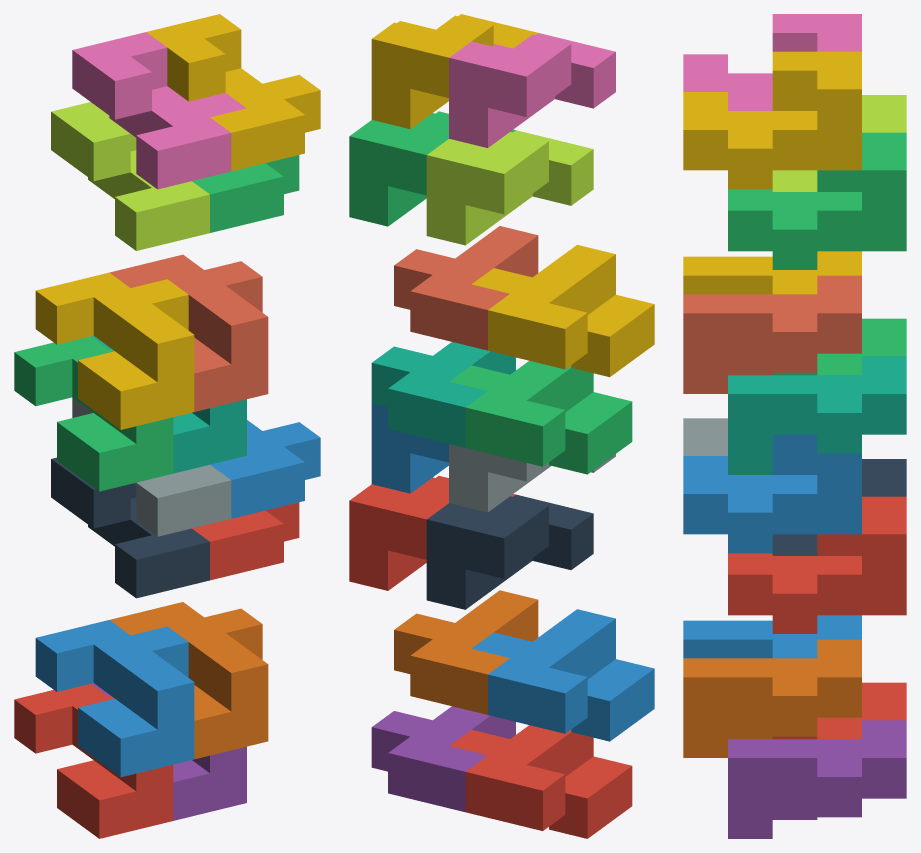
File: tiling.obj
3 renders of one model, left to right at view 1: azimuth 30°, elevation 25°; view 2: azimuth 150°, elevation 25°; view 3: azimuth 270°, elevation 25°, orthographic. The views are drawn at different scales.
Visible parts, largest first — view 1: copy_1_domain_4, copy_1_domain_2, copy_2_domain_4, copy_2_domain_8, copy_1_domain_6, copy_1_domain_8, copy_1_domain_1, copy_1_domain_3, copy_2_domain_3, copy_2_domain_1, copy_2_domain_6, copy_2_domain_2 (+4 smaller); view 2: copy_1_domain_2, copy_1_domain_4, copy_1_domain_3, copy_1_domain_1, copy_2_domain_1, copy_2_domain_3, copy_2_domain_4, copy_1_domain_8, copy_1_domain_6, copy_2_domain_8, copy_1_domain_5, copy_1_domain_7 (+4 smaller); view 3: copy_2_domain_8, copy_2_domain_5, copy_2_domain_7, copy_2_domain_6, copy_1_domain_6, copy_1_domain_8, copy_1_domain_5, copy_1_domain_7, copy_2_domain_4, copy_1_domain_2, copy_1_domain_4, copy_1_domain_1 (+4 smaller).
Boxes of the visible parts, <box> form: copy_1_domain_4: <box>35,272,194,429</box>; copy_1_domain_2: <box>35,620,194,777</box>; copy_2_domain_4: <box>72,32,246,189</box>; copy_2_domain_8: <box>146,14,320,171</box>; copy_1_domain_6: <box>110,602,268,759</box>; copy_1_domain_8: <box>109,254,268,411</box>; copy_1_domain_1: <box>14,684,173,838</box>; copy_1_domain_3: <box>14,336,173,491</box>; copy_2_domain_3: <box>51,102,209,250</box>; copy_2_domain_1: <box>51,457,209,598</box>; copy_2_domain_6: <box>210,420,320,518</box>; copy_2_domain_2: <box>72,397,231,536</box>; copy_1_domain_2: <box>472,609,654,741</box>; copy_1_domain_4: <box>472,244,654,377</box>; copy_1_domain_3: <box>449,361,632,474</box>; copy_1_domain_1: <box>449,725,632,838</box>; copy_2_domain_1: <box>426,494,593,609</box>; copy_2_domain_3: <box>426,130,593,245</box>; copy_2_domain_4: <box>449,33,615,147</box>; copy_1_domain_8: <box>394,226,538,350</box>; copy_1_domain_6: <box>394,590,538,714</box>; copy_2_domain_8: <box>371,14,537,129</box>; copy_1_domain_5: <box>371,706,515,812</box>; copy_1_domain_7: <box>371,342,515,447</box>; copy_2_domain_8: <box>683,51,861,189</box>; copy_2_domain_5: <box>728,496,906,633</box>; copy_2_domain_7: <box>728,132,906,269</box>; copy_2_domain_6: <box>683,434,861,553</box>; copy_1_domain_6: <box>683,639,861,757</box>; copy_1_domain_8: <box>683,275,861,393</box>; copy_1_domain_5: <box>728,720,906,838</box>; copy_1_domain_7: <box>728,356,906,474</box>; copy_2_domain_4: <box>683,14,861,110</box>; copy_1_domain_2: <box>683,615,861,658</box>; copy_1_domain_4: <box>683,251,861,294</box>; copy_1_domain_1: <box>772,682,906,739</box>.
Bounding box in the file's own units: 6 × 19 × 5.
